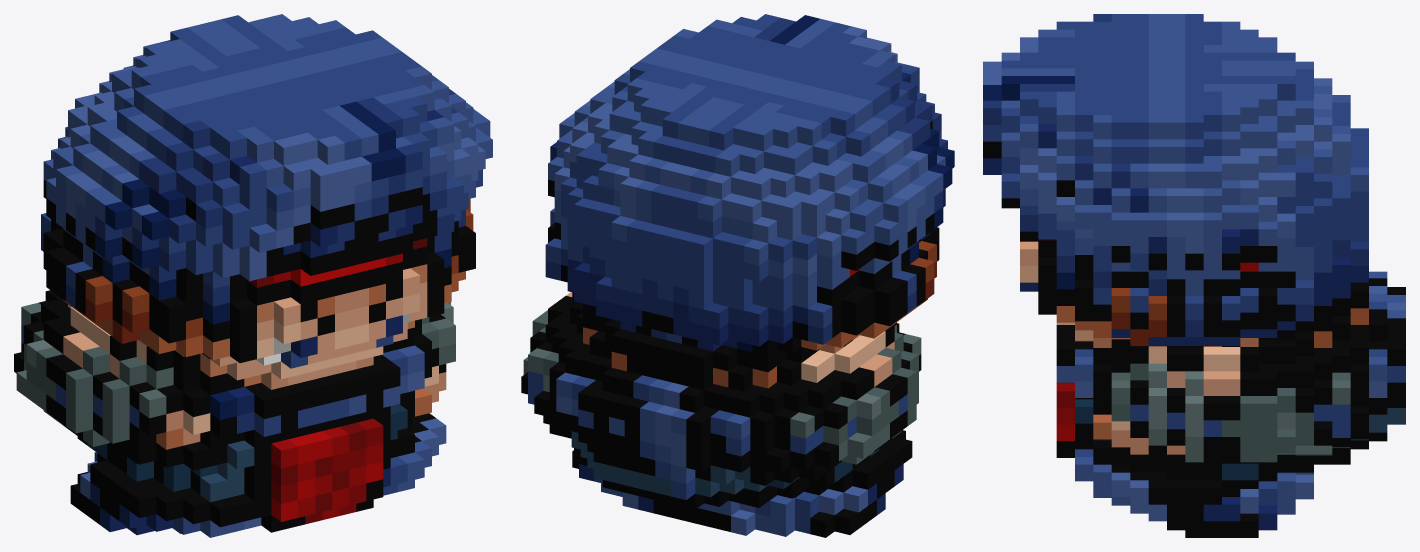
File: Icon_001_03.obj
3 renders of one model, left to right at view 1: azimuth 30°, elevation 25°; view 2: azimuth 150°, elevation 25°; view 3: azimuth 270°, elevation 25°, orthographic. The views are drawn at different scales.
Size of the model in its own units: 2.2 by 2.4 by 2.3.
